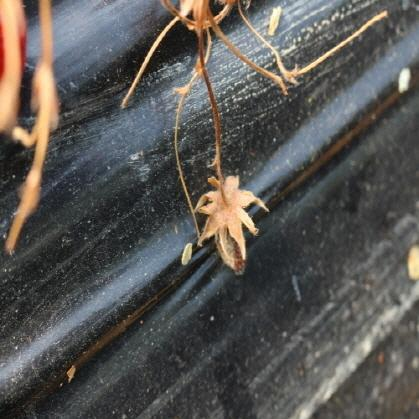Gray Mold: (193, 174, 271, 276)
